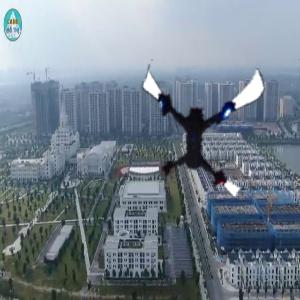drone: (127, 54, 266, 193)
